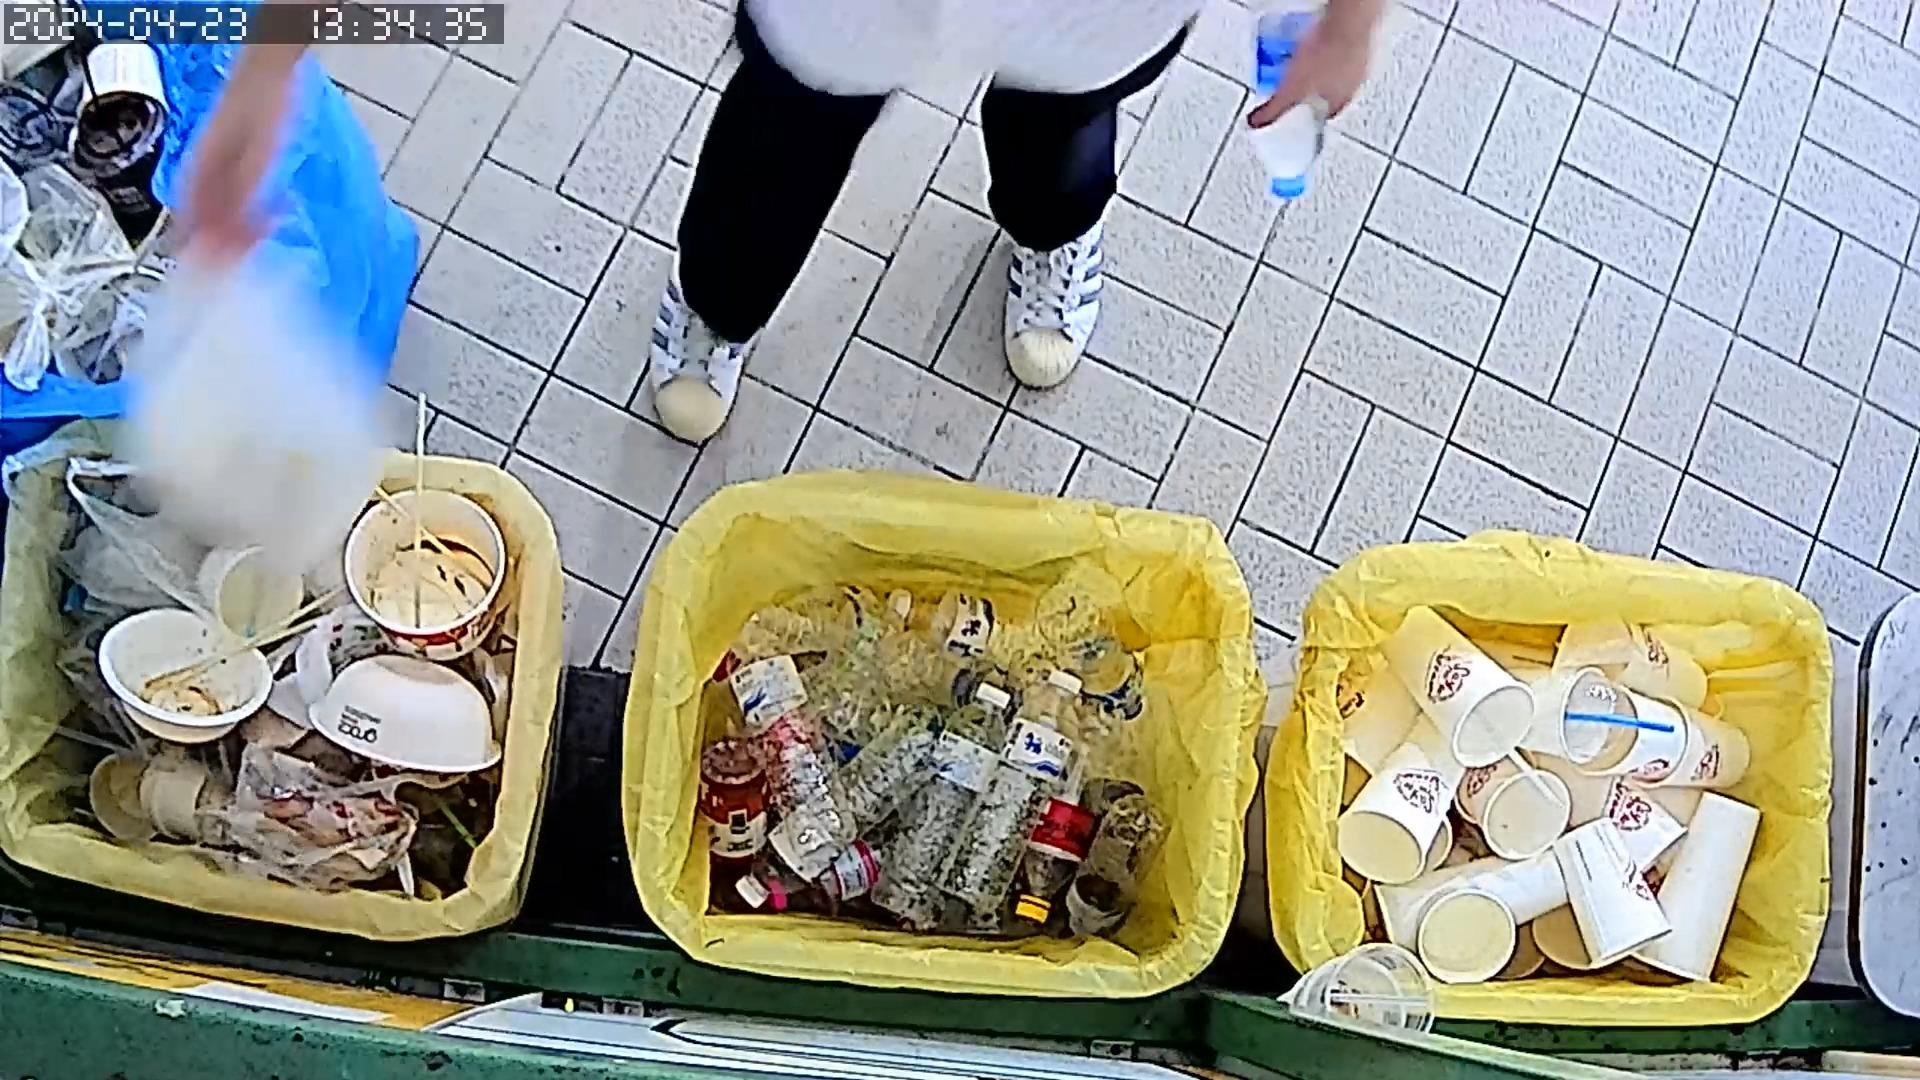can: (707, 735, 778, 872)
filled plastic bag: (1, 429, 211, 620), (203, 742, 433, 898)
food container: (355, 481, 529, 669), (314, 649, 518, 791), (94, 613, 286, 764), (193, 535, 305, 653), (137, 750, 257, 858), (1416, 886, 1528, 993), (80, 744, 189, 852)
plastic bottle: (731, 698, 963, 913), (922, 667, 1091, 916), (868, 678, 1023, 930), (728, 645, 868, 868), (1009, 728, 1113, 930), (895, 578, 1065, 683), (1068, 790, 1182, 942), (1035, 583, 1155, 724)
plastic cup: (1568, 667, 1638, 773)
plastic cutlery: (378, 545, 506, 620)
sticks: (148, 576, 361, 696), (405, 384, 444, 637)
straw: (1482, 707, 1573, 819), (1571, 709, 1685, 740)
zero waste cup: (1631, 790, 1779, 988), (1335, 716, 1478, 897), (1395, 608, 1542, 775), (1542, 748, 1700, 898), (1547, 815, 1685, 975), (1555, 608, 1724, 720), (1581, 683, 1705, 800), (1668, 696, 1760, 804)
